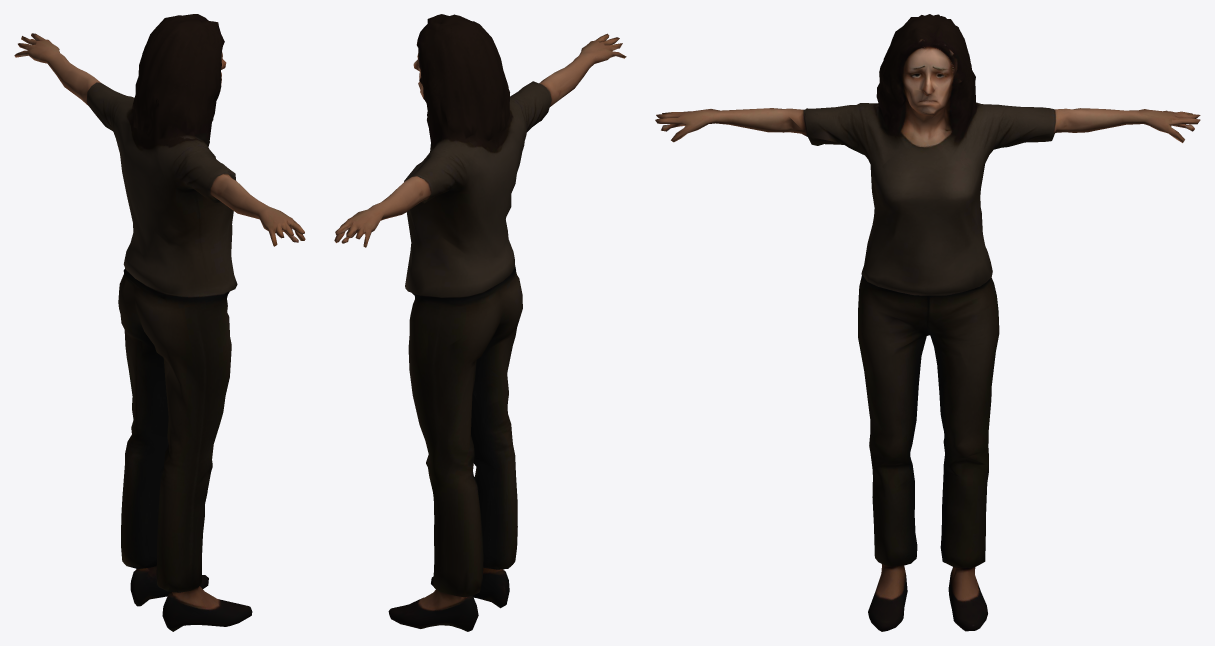
The model's file is Mother.fbx.
The picture shows the model from 3 angles, left to right: view 1: azimuth 30°, elevation 25°; view 2: azimuth 150°, elevation 25°; view 3: azimuth 270°, elevation 25°; orthographic projection.
Visible parts, largest first — view 1: tripo_node_f607646c; view 2: tripo_node_f607646c; view 3: tripo_node_f607646c.
Part boxes in pixels (bbox=[...]): tripo_node_f607646c: bbox=[14, 14, 305, 631]; tripo_node_f607646c: bbox=[334, 14, 626, 631]; tripo_node_f607646c: bbox=[655, 14, 1200, 631].
Size of the model in its own units: 0.1704 by 1 by 0.8331.
Materials: 1 (1 with a texture image).
